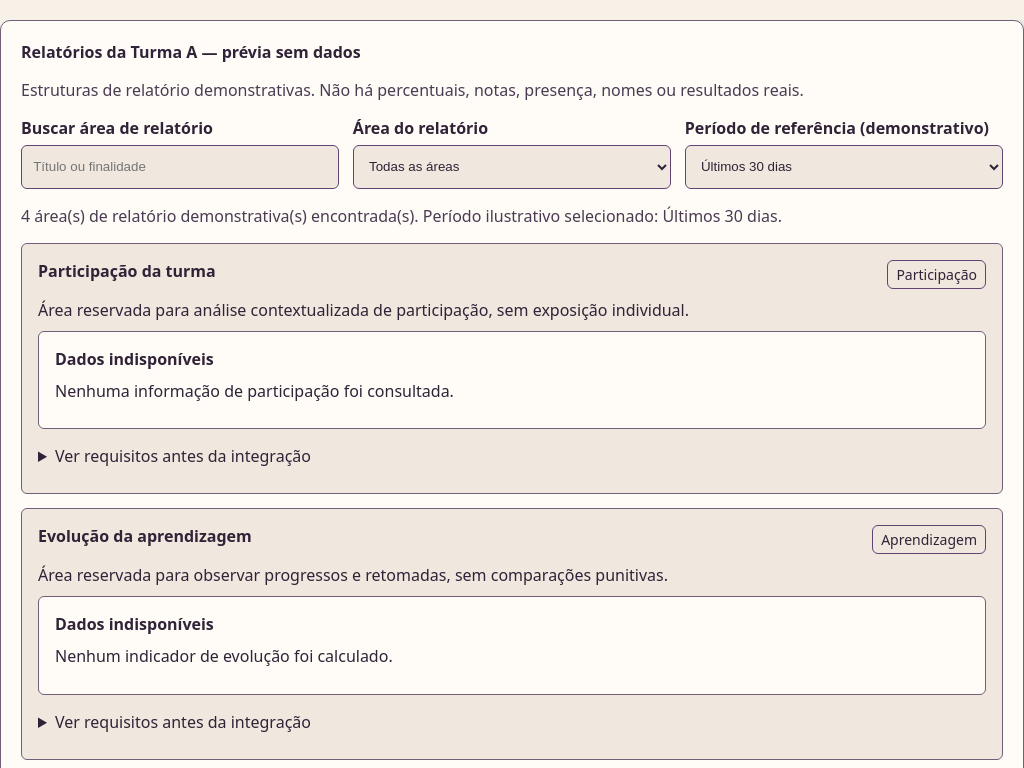
Scenario: Professor → Turma A → Relatórios (prévia) › changes only the illustrative period and discloses security requirements
The width and height of the screenshot is (1024, 768).
Select "Últimos 90 dias" in the dropdown labelled "Período de referência (demonstrativo)" at (844, 167), box top-left (685, 145), bottom-right (1003, 189)
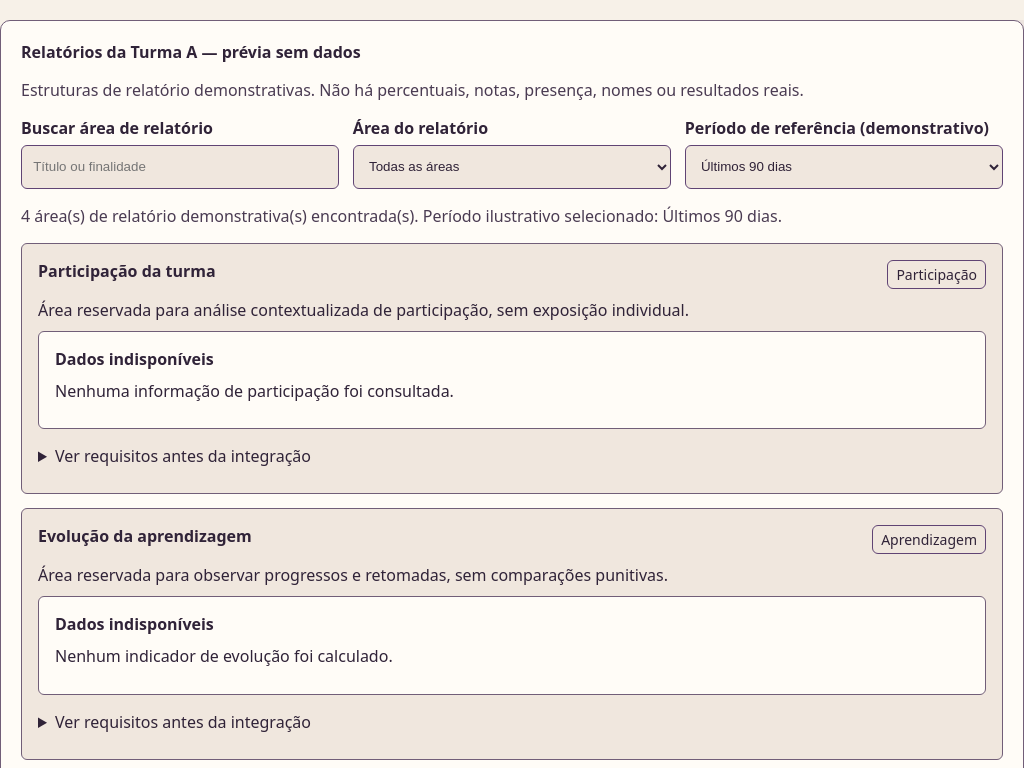
Check: the list item "Participação da turma" is shown, box top-left (38, 260), bottom-right (216, 282)
Check: the text "Período ilustrativo selecionado: Últimos 90 dias" is shown, box top-left (21, 205), bottom-right (782, 227)
